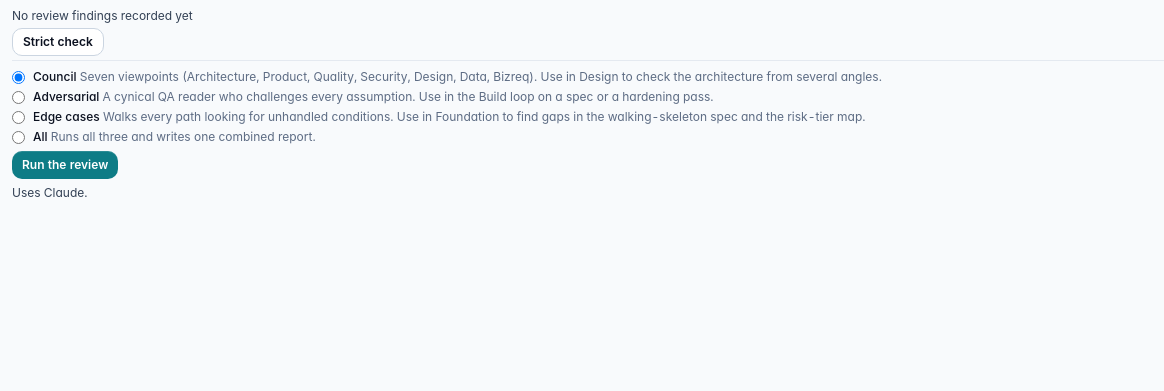
ReviewStandingPanel: choosing how to review › sends Edge cases as the mode
This screenshot has width=1164, height=391.
Check: the text "No review findings recorded yet" is shown, box [12,8,193,23]
Click the 3rd radio button. click: point(18, 118)
box: [12,111,25,124]
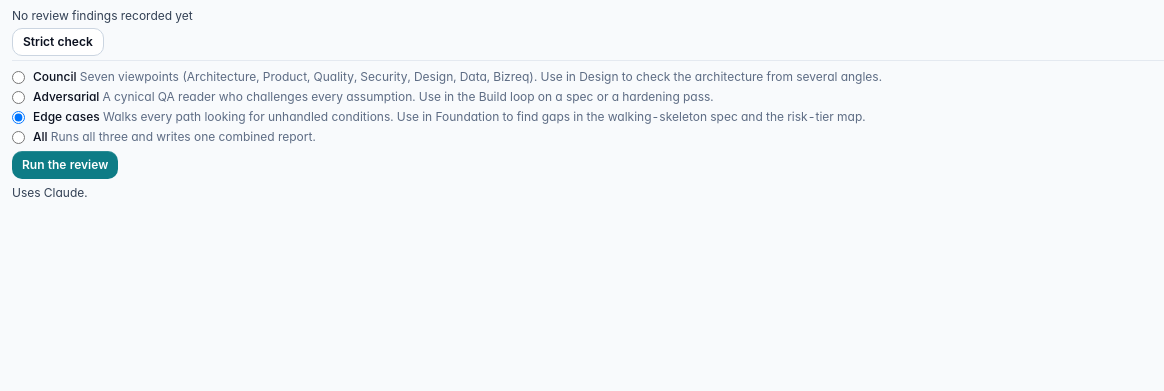
Click the button "Run the review". click: point(65, 165)
box: [12,151,118,179]
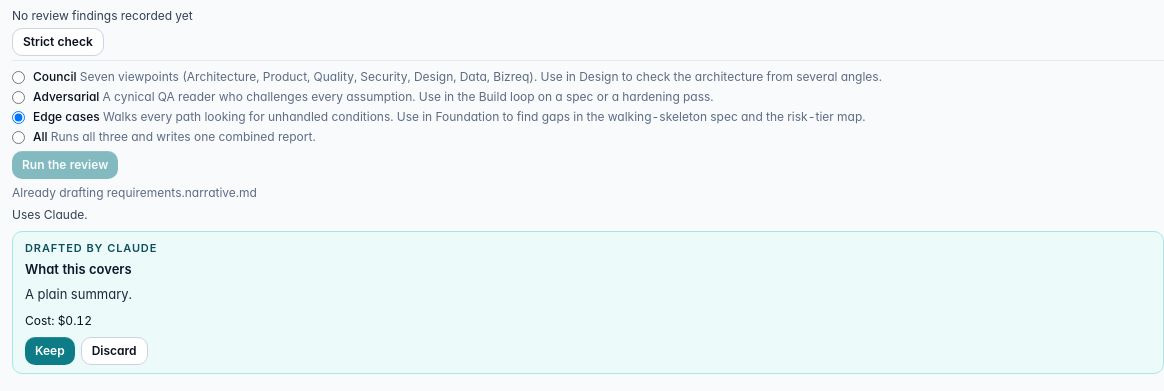
Check: the element with test id "candidate-view" is shown, box [12,231,1163,374]
